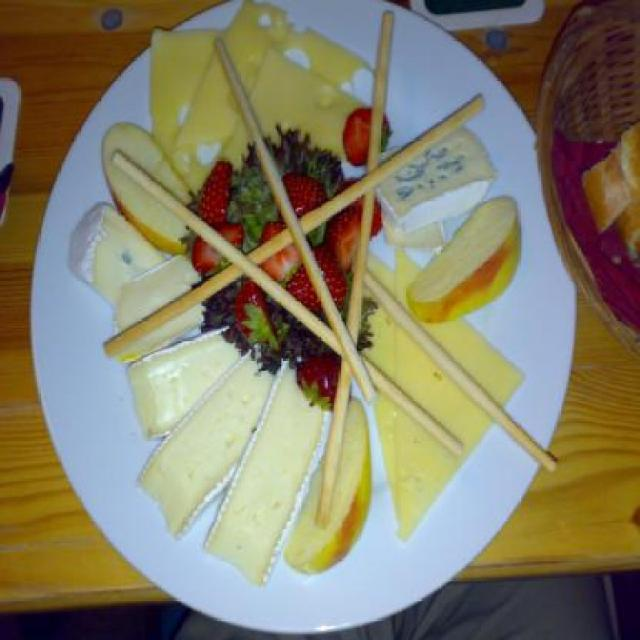Cheese: (398, 244, 528, 540), (168, 0, 368, 191), (222, 44, 372, 162), (373, 122, 498, 235), (360, 245, 398, 538), (149, 20, 231, 152), (383, 219, 448, 261)
